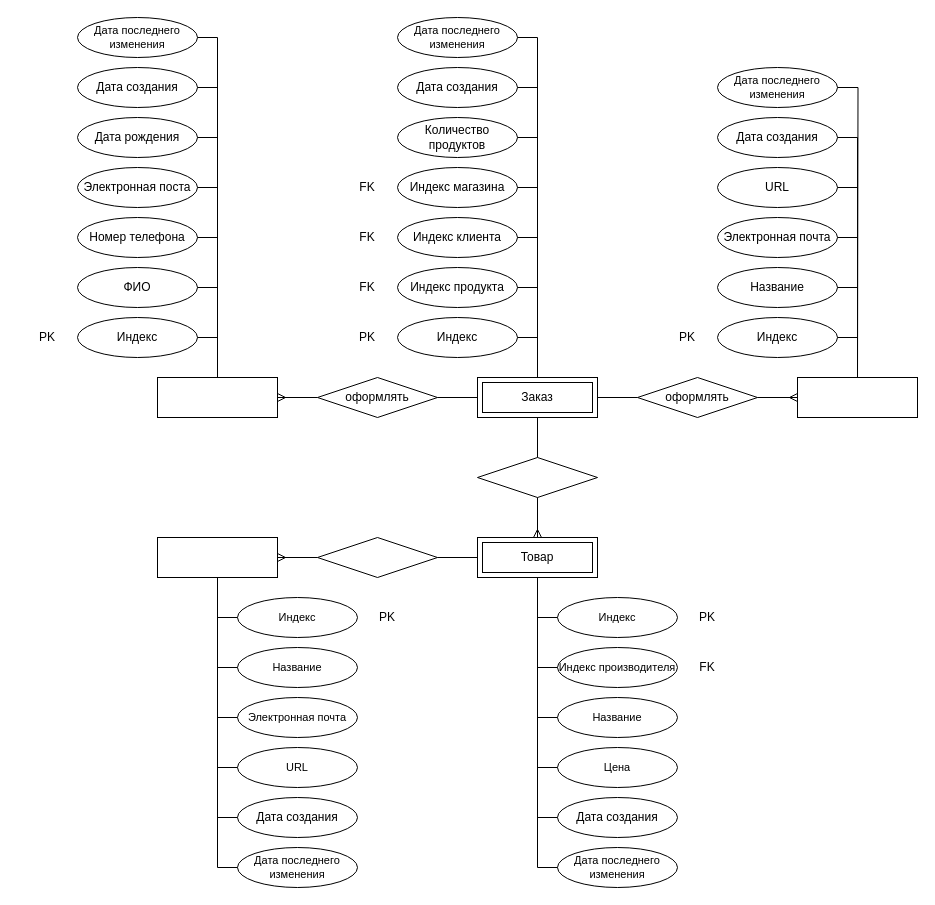
Some shapes in this 935 by 905 pixel diagram are drawn without their labels. The centre of each missing label's shape, as x and y in pixels:
"Клиент" belongs at [217,397].
"Магазин" belongs at [857,397].
"Производитель" belongs at [217,557].
"содержать" belongs at [537,477].
"создать" belongs at [377,557].
